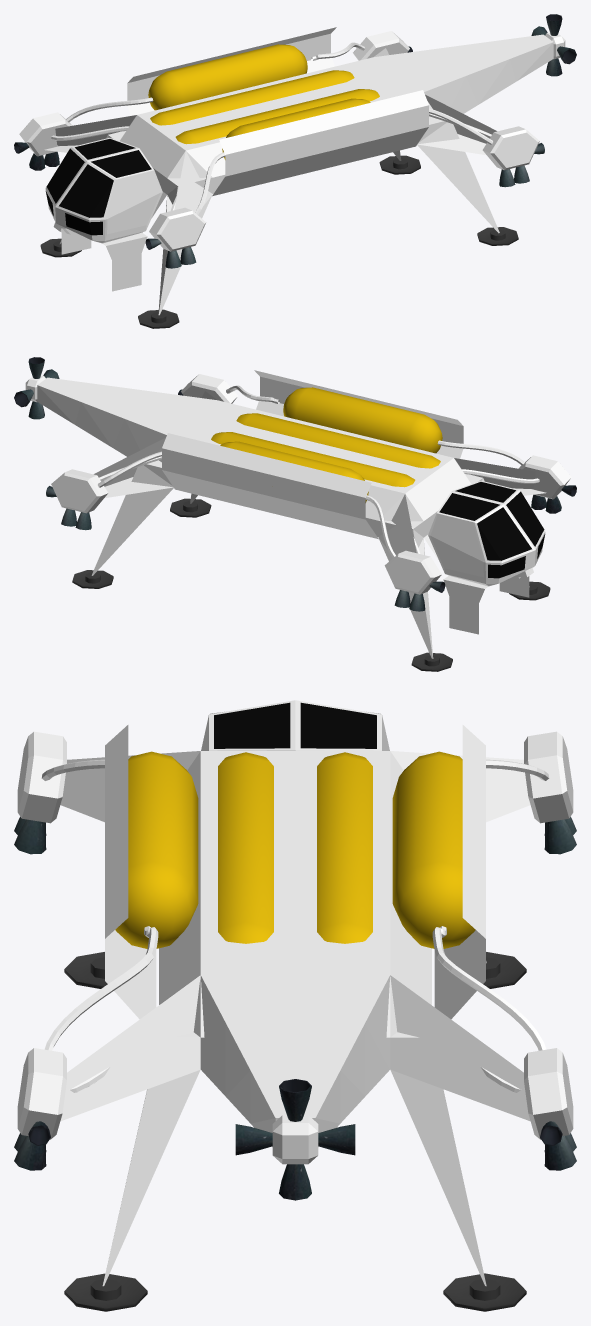
Rendered from Conex hopper.glb.
3 renders of one model, top to bottom at view 1: azimuth 30°, elevation 25°; view 2: azimuth 150°, elevation 25°; view 3: azimuth 270°, elevation 25°, orthographic. The views are drawn at different scales.
Visible parts, largest first — view 1: Cube.156, Cube.159, Sphere.020, Circle.041, Cylinder.124, Cube.158, Cylinder.128, Cylinder.126, Cylinder.125, Cylinder.123; view 2: Cube.156, Cube.159, Sphere.020, Circle.041, Cylinder.124, Cube.158, Cylinder.128, Cylinder.126, Cylinder.125, Cylinder.123; view 3: Cube.156, Sphere.020, Cube.159, Cylinder.124, Circle.041, Cube.158, Cylinder.128, Circle.043, Cylinder.123, Cylinder.125, Cylinder.126, Cylinder.122 (+1 smaller).
Boxes of the visible parts, bbox=[...] form: Cube.156: bbox=[44, 34, 553, 315]; Cube.159: bbox=[127, 27, 428, 196]; Sphere.020: bbox=[148, 44, 379, 159]; Circle.041: bbox=[45, 137, 162, 243]; Cylinder.124: bbox=[19, 31, 539, 251]; Cube.158: bbox=[40, 155, 518, 328]; Cylinder.128: bbox=[51, 42, 492, 214]; Cylinder.126: bbox=[29, 153, 529, 268]; Cylinder.125: bbox=[44, 151, 515, 264]; Cylinder.123: bbox=[546, 14, 562, 76]; Cube.156: bbox=[37, 377, 546, 658]; Cube.159: bbox=[162, 370, 463, 539]; Sphere.020: bbox=[211, 387, 442, 502]; Circle.041: bbox=[428, 480, 545, 586]; Cylinder.124: bbox=[51, 374, 571, 594]; Cube.158: bbox=[72, 498, 550, 671]; Cylinder.128: bbox=[98, 385, 539, 557]; Cylinder.126: bbox=[61, 496, 561, 611]; Cylinder.125: bbox=[75, 494, 546, 607]; Cylinder.123: bbox=[28, 357, 44, 419]; Cube.156: bbox=[60, 751, 530, 1286]; Sphere.020: bbox=[115, 751, 475, 948]; Cube.159: bbox=[105, 725, 485, 1019]; Cylinder.124: bbox=[17, 731, 573, 1139]; Circle.041: bbox=[201, 700, 389, 750]; Cube.158: bbox=[64, 952, 526, 1311]; Cylinder.128: bbox=[41, 759, 549, 1092]; Circle.043: bbox=[272, 1115, 318, 1164]; Cylinder.123: bbox=[279, 1079, 311, 1200]; Cylinder.125: bbox=[14, 819, 576, 1151]; Cylinder.126: bbox=[14, 817, 576, 1170]; Cylinder.122: bbox=[235, 1124, 355, 1155].
Size of the model in its own units: 13.07 by 3.99 by 6.47.
Materials: 9 (1 with a texture image).
